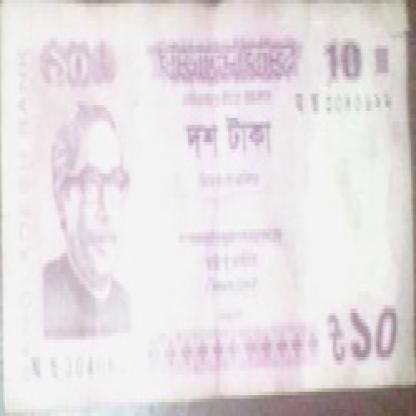Ten Taka: (351, 295, 406, 374), (45, 35, 105, 100), (321, 28, 371, 97)
